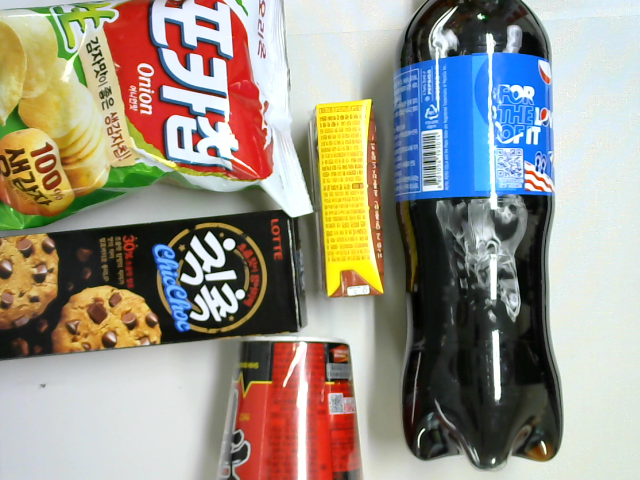Chicchok_Original_2400: (1, 208, 311, 363)
Choco_E_Mong: (311, 97, 389, 304)
Pepsi_Cola_1.5L: (392, 1, 565, 469)
Pocachip_Onion: (1, 1, 319, 233)
Sinramen_small: (212, 336, 365, 480)
